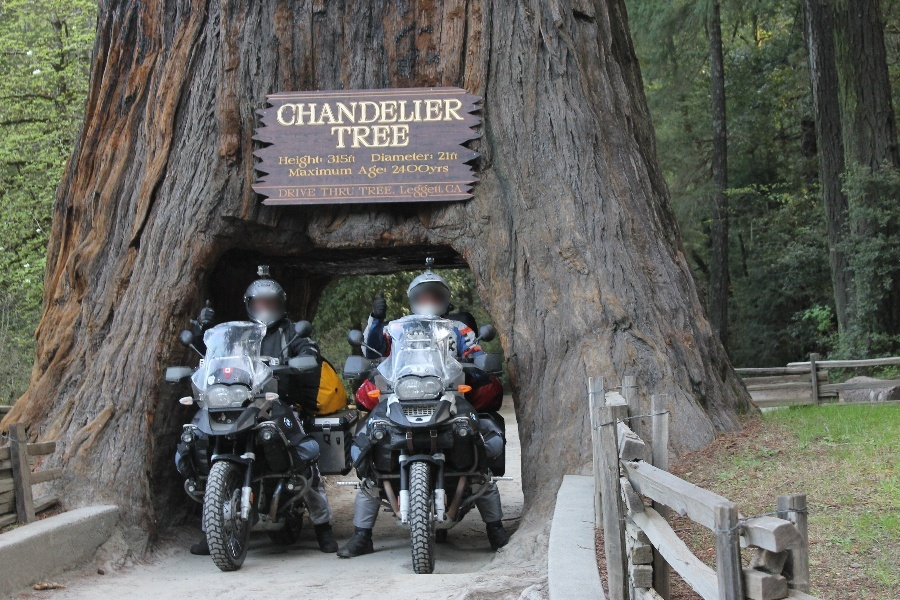text: (289, 97, 304, 127), (305, 97, 320, 127), (321, 97, 336, 127), (337, 97, 352, 127), (353, 97, 368, 127), (369, 97, 384, 127), (385, 97, 400, 127), (401, 97, 416, 127), (417, 97, 432, 127), (433, 97, 448, 127), (449, 97, 464, 127), (337, 124, 352, 150), (353, 124, 368, 150), (369, 124, 384, 150), (385, 124, 400, 150), (278, 97, 288, 127), (401, 124, 410, 150), (289, 154, 304, 169), (305, 154, 320, 169), (401, 184, 416, 199), (417, 184, 432, 199), (433, 184, 448, 199), (369, 165, 384, 179), (449, 184, 463, 199), (401, 164, 416, 176), (417, 164, 432, 176), (433, 164, 448, 176), (337, 167, 353, 177), (330, 124, 336, 150), (289, 167, 304, 177), (305, 167, 320, 177), (321, 167, 336, 177), (385, 153, 400, 163), (401, 153, 416, 163), (417, 153, 432, 163), (289, 188, 304, 198), (369, 186, 384, 196), (279, 154, 288, 169), (337, 155, 352, 164), (321, 188, 336, 197), (337, 188, 352, 197), (371, 153, 384, 163), (359, 165, 368, 179), (305, 188, 316, 198), (385, 186, 396, 196), (391, 164, 400, 176), (278, 188, 288, 198), (449, 152, 459, 161), (359, 186, 368, 196), (439, 152, 448, 161), (329, 155, 336, 164), (465, 97, 467, 127), (385, 165, 388, 179), (353, 155, 357, 164), (321, 154, 323, 169), (449, 164, 450, 176), (433, 153, 434, 163), (353, 188, 354, 197)
